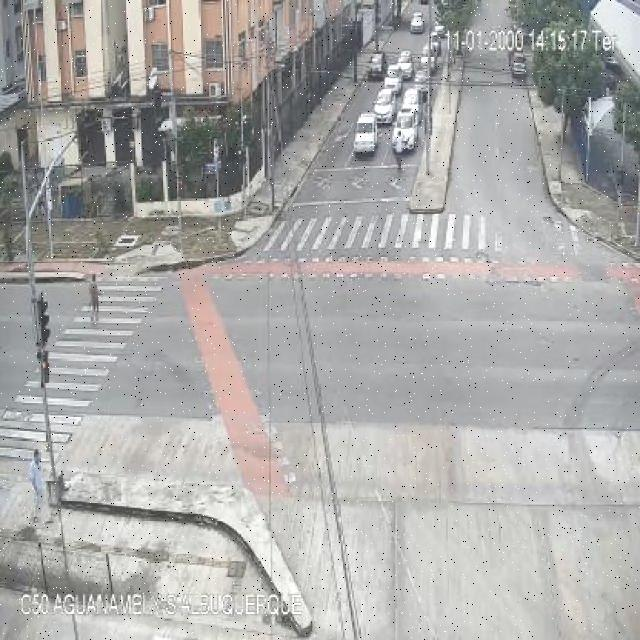Car: (392, 107, 419, 153), (353, 114, 379, 154), (372, 88, 398, 122), (401, 88, 423, 119), (397, 50, 414, 80), (511, 52, 528, 78), (369, 53, 386, 79), (383, 73, 403, 95), (410, 12, 424, 34), (414, 70, 429, 87), (433, 23, 446, 39), (420, 0, 429, 5)
